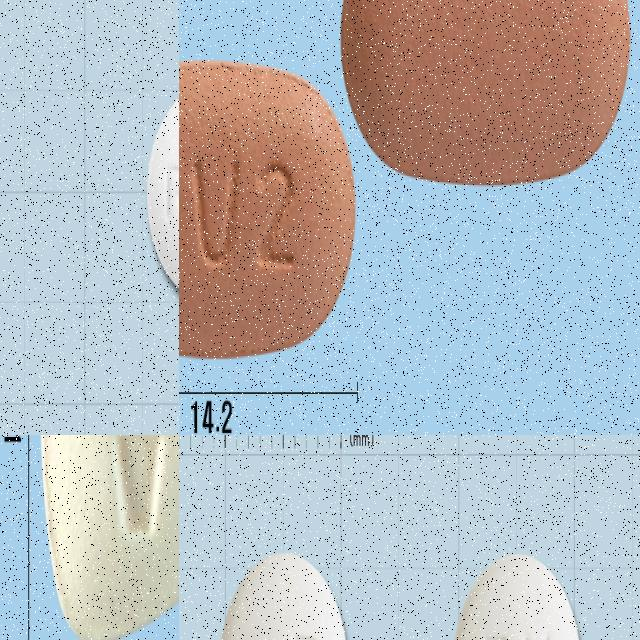Exviera: (179, 58, 356, 360), (341, 0, 630, 184)
Leflu - 10mg: (38, 435, 179, 640)
Proxco Tab: (218, 550, 349, 640), (452, 552, 583, 640)
Rp Levofloxacin Tab: (145, 87, 179, 299)
